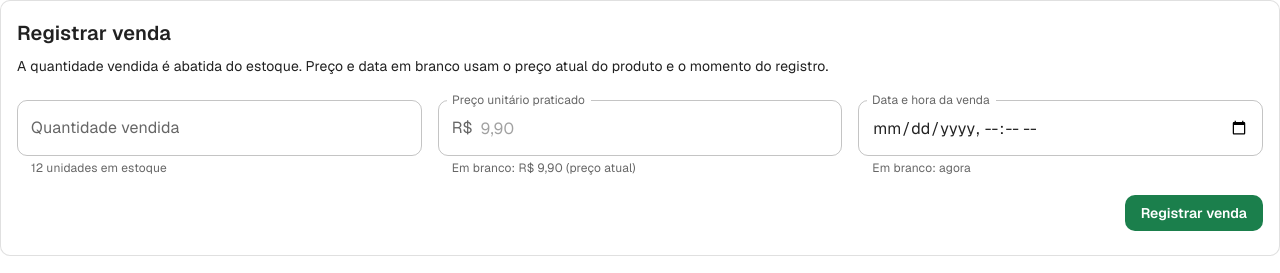
RegisterSaleForm › maps a field sub-error from the backend onto its field
Type "1" into the number field labelled "Quantidade vendida" at (219, 128), box [17,100,422,156]
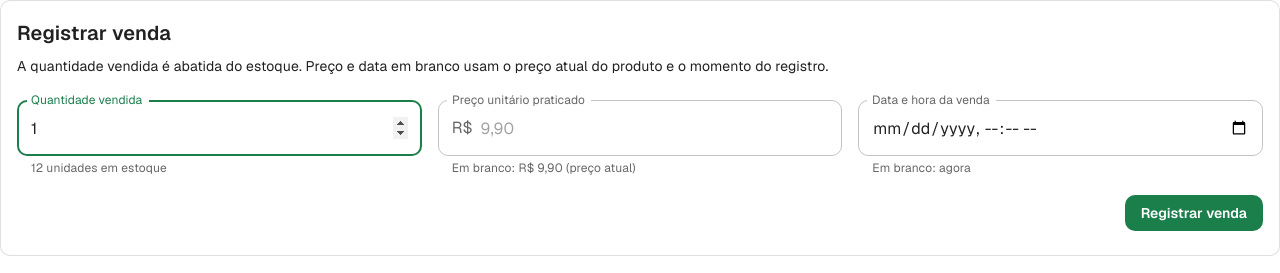
Click the button "Registrar venda" at (1194, 213), box [1125,195,1263,231]
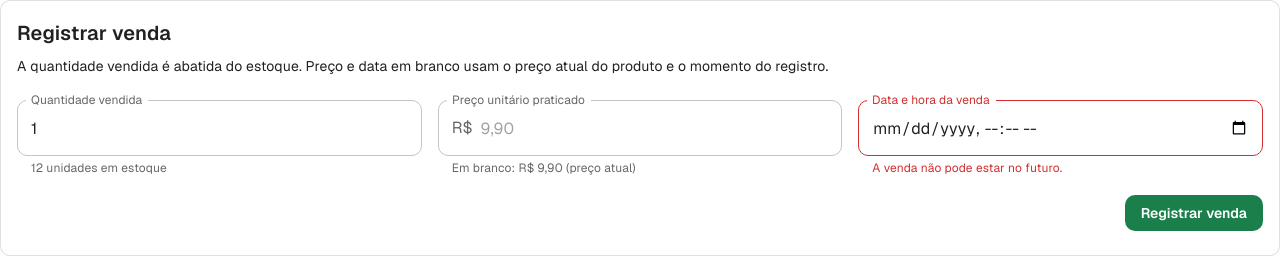
Check: the text "A venda não pode estar no futuro." is shown, box [872,160,1062,176]
